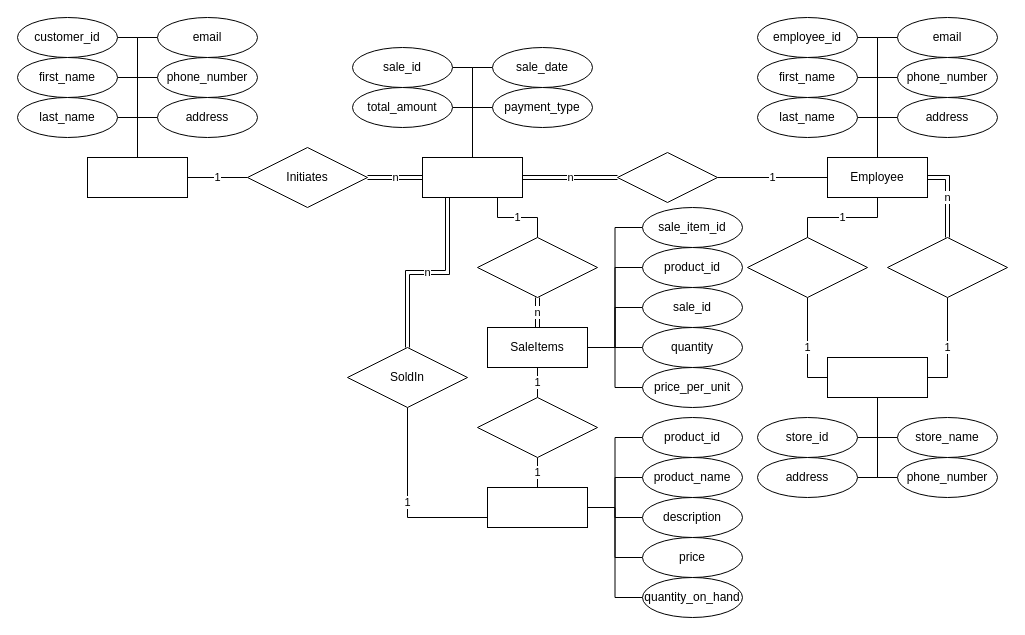
This 1025x635 diagram has some shape labels left out. The shapes that lost their labels are listed below. From the top down, each one's box as (x1, y1, x2, y2) in pixels, then its label:
(86, 156, 188, 198): Customer
(422, 156, 522, 198): Sale
(616, 152, 718, 202): ProcessedBy
(476, 236, 598, 298): Includes
(746, 236, 868, 298): WorksIn
(886, 236, 1008, 298): Has
(826, 356, 928, 398): Store
(476, 396, 598, 458): RefersTo
(486, 486, 588, 528): Product
